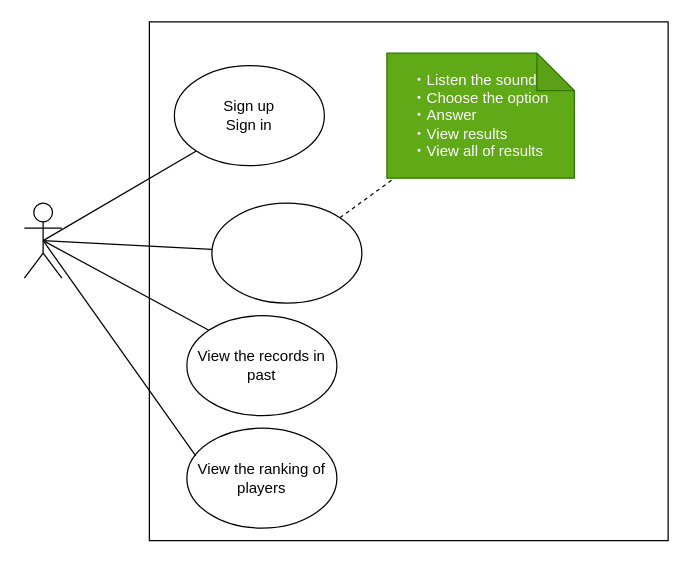
Image size: 690x563. Some labels were removed from this diagram. The shapes that lost their labels are listed below. From the top down, each one's centre as x and y in pixels, then its label:
the point at 42,240: Player
the point at 286,252: quizz
